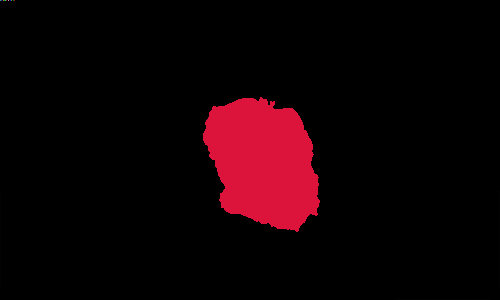toy: (191, 92, 321, 235)
